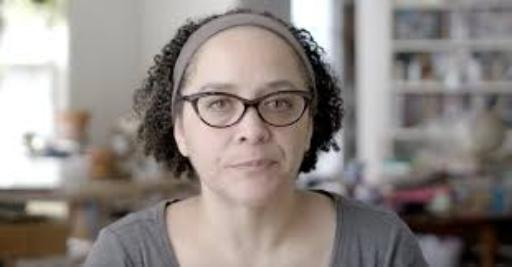left_eye: (266, 97, 295, 114)
left_lip_corner: (270, 156, 281, 167)
right_eye: (206, 98, 239, 112)
right_lip_corner: (228, 161, 242, 172)
